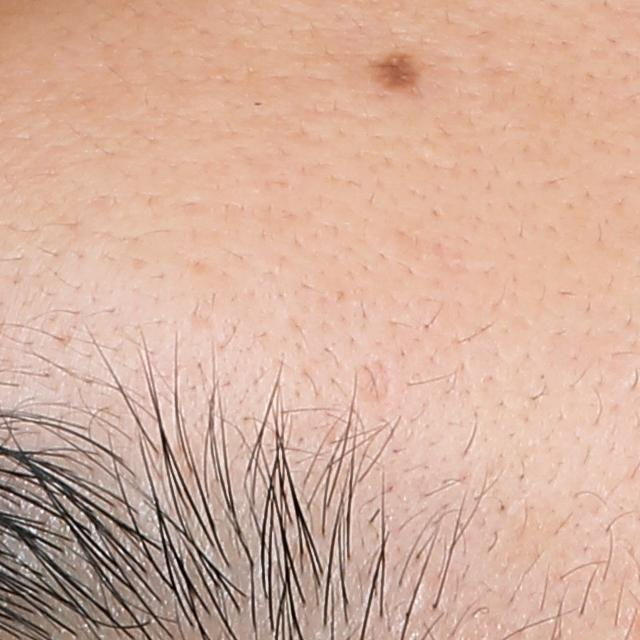atrophic_scar: (351, 354, 396, 408)
nevus: (372, 50, 420, 91)
